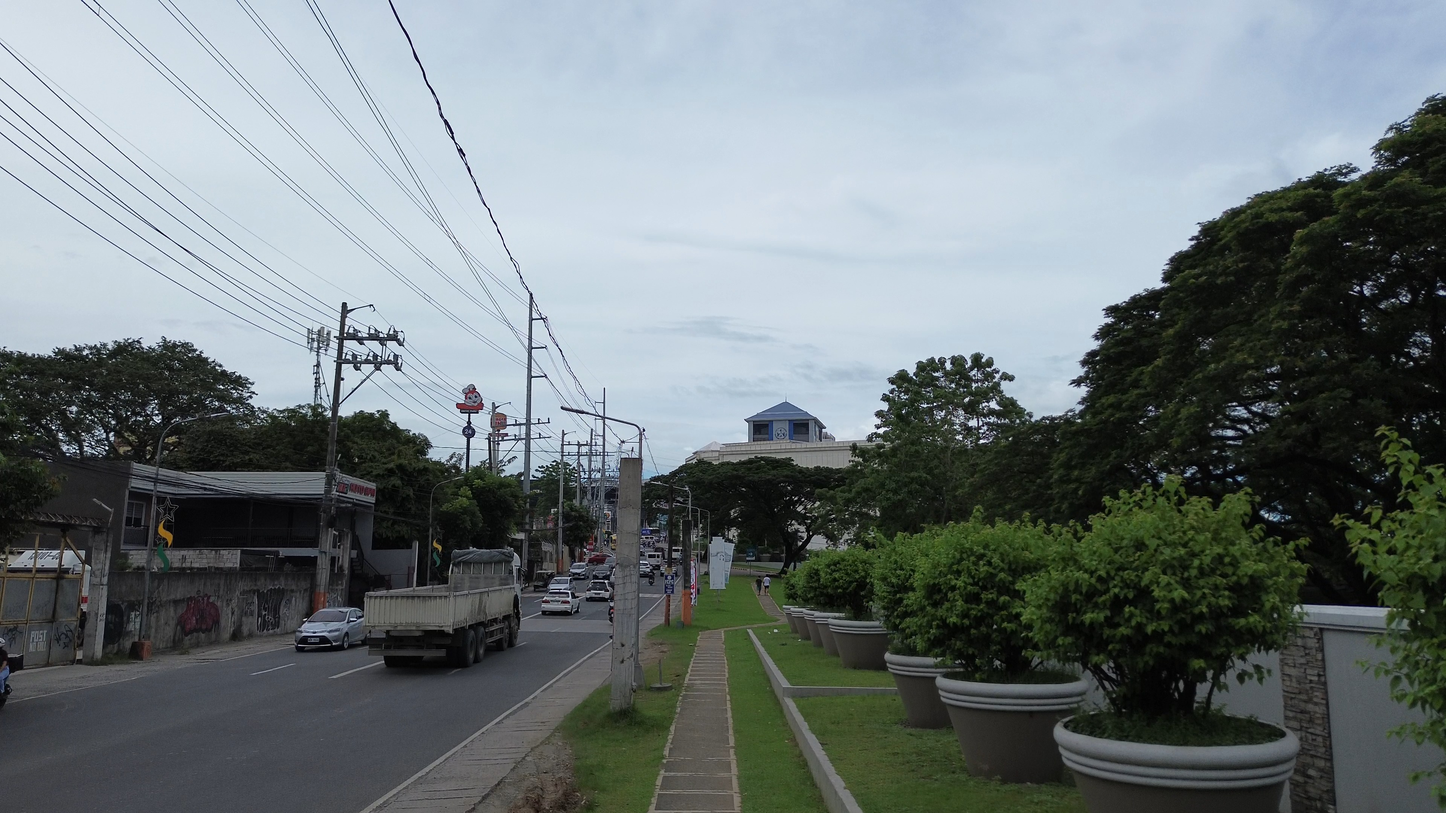car: (540, 589, 581, 614), (547, 575, 573, 591)
truck: (364, 549, 521, 667)
vehicle: (295, 607, 365, 651), (585, 580, 612, 601), (532, 571, 556, 590), (547, 575, 574, 591), (643, 550, 664, 569), (587, 552, 615, 565), (592, 564, 614, 580), (569, 562, 589, 579), (639, 561, 653, 577)
